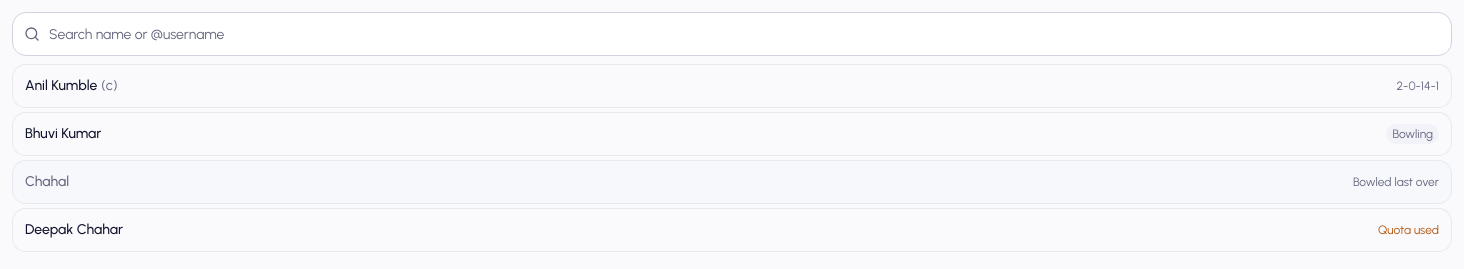
PlayerPicker › warns about duplicate names before adding another
Type "anil kumble" into the search field at (732, 34), box [12,12,1452,56]
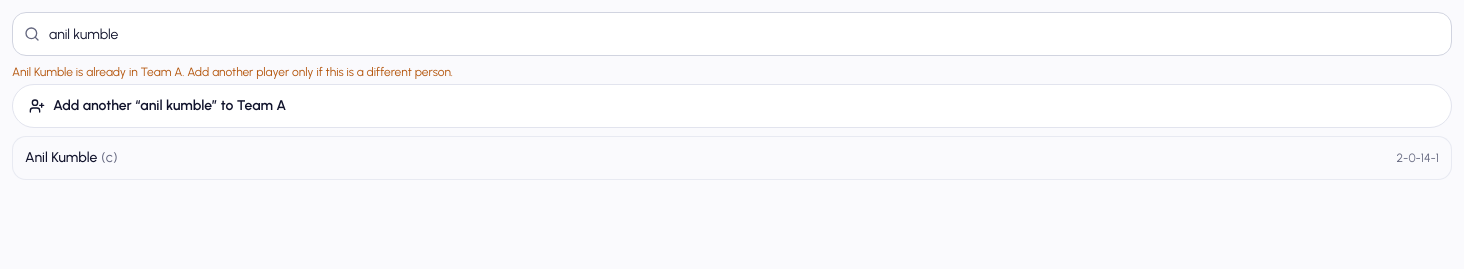
Expected: the text "Anil Kumble is already in Team A" is shown, [12,65,453,79]
Expected: the button "Add another “anil kumble” to Team A" is enabled, [12,84,1452,128]
